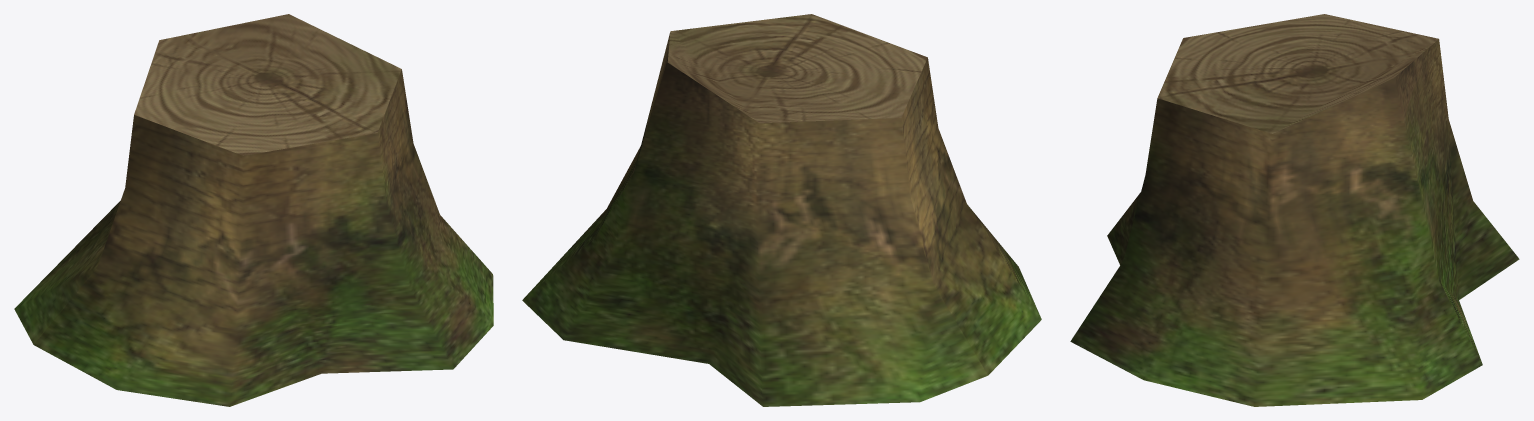
File: Pine_Stump_02.FBX
3 views of the same model, side by side, from view 1: azimuth 30°, elevation 25°; view 2: azimuth 150°, elevation 25°; view 3: azimuth 270°, elevation 25° (orthographic). The views are drawn at different scales.
Parts seen in each view (by area): view 1: Pine_Stump_02; view 2: Pine_Stump_02; view 3: Pine_Stump_02.
Boxes of the visible parts, x1,y1,x2,y2 form: Pine_Stump_02: (14,14,493,406); Pine_Stump_02: (522,14,1041,406); Pine_Stump_02: (1070,14,1519,406).
Size of the model in its own units: 7.36 by 6.53 by 4.14.
Materials: 2 (2 with a texture image).
